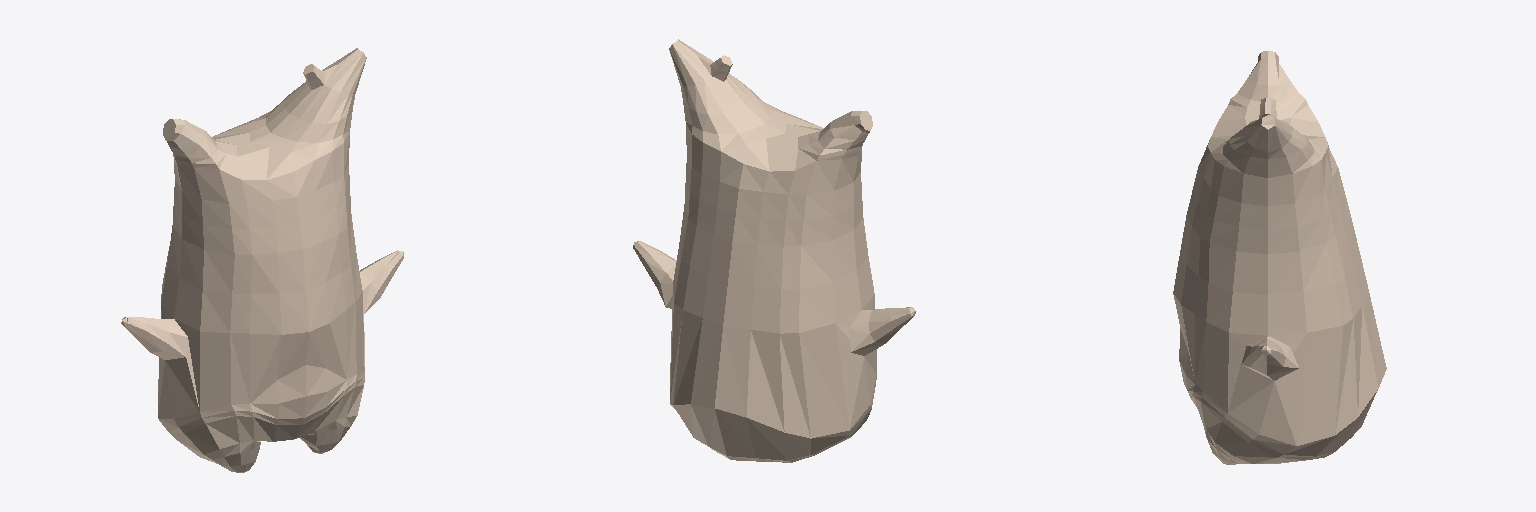
File: frame_0047.obj
3 views of the same model, side by side, from view 1: azimuth 30°, elevation 25°; view 2: azimuth 150°, elevation 25°; view 3: azimuth 270°, elevation 25° (orthographic).
Parts seen in each view (by area): view 1: korok; view 2: korok; view 3: korok.
Boxes of the visible parts, x1,y1,x2,y2 form: korok: [121, 48, 403, 472]; korok: [633, 39, 915, 462]; korok: [1173, 50, 1386, 464].
Bounding box in the file's own units: 1.59 × 2.03 × 1.05.